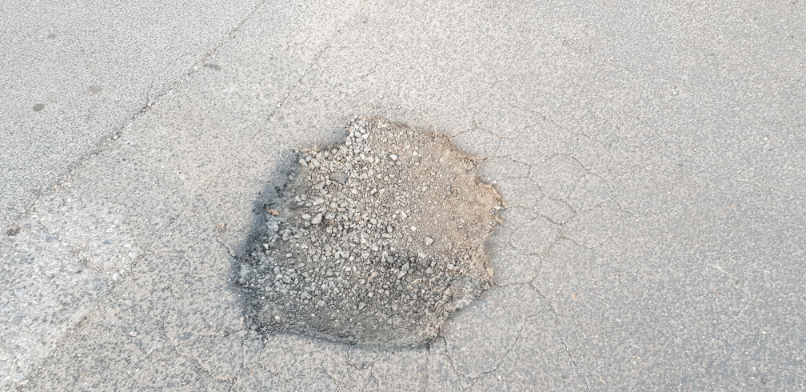pothole: (222, 110, 511, 355)
